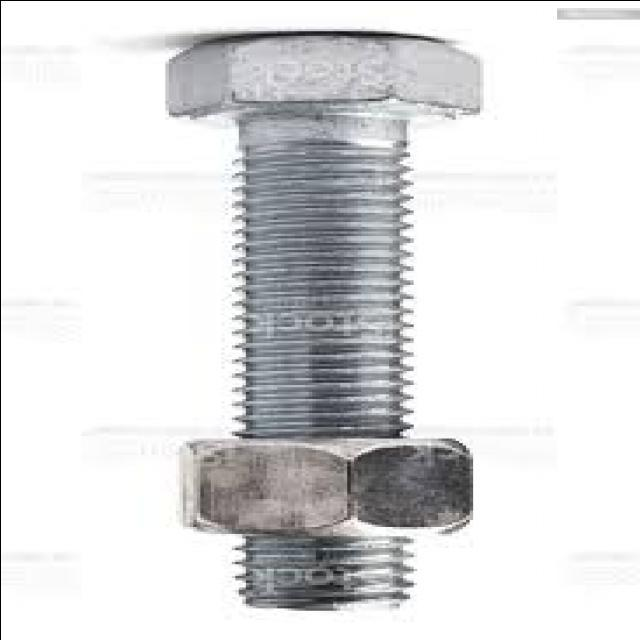bolt: (161, 41, 474, 602)
nut: (170, 438, 476, 536)
